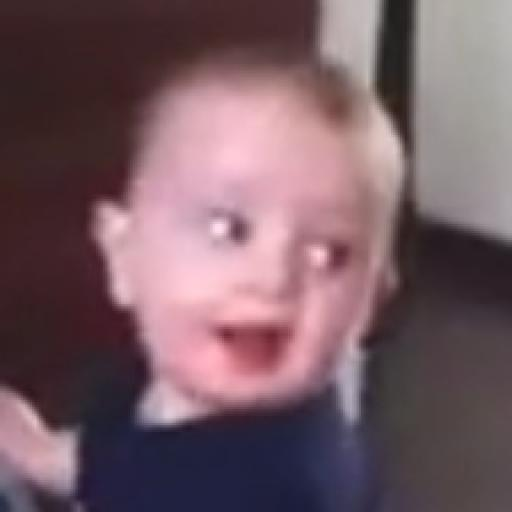Autism: (100, 22, 492, 467)
